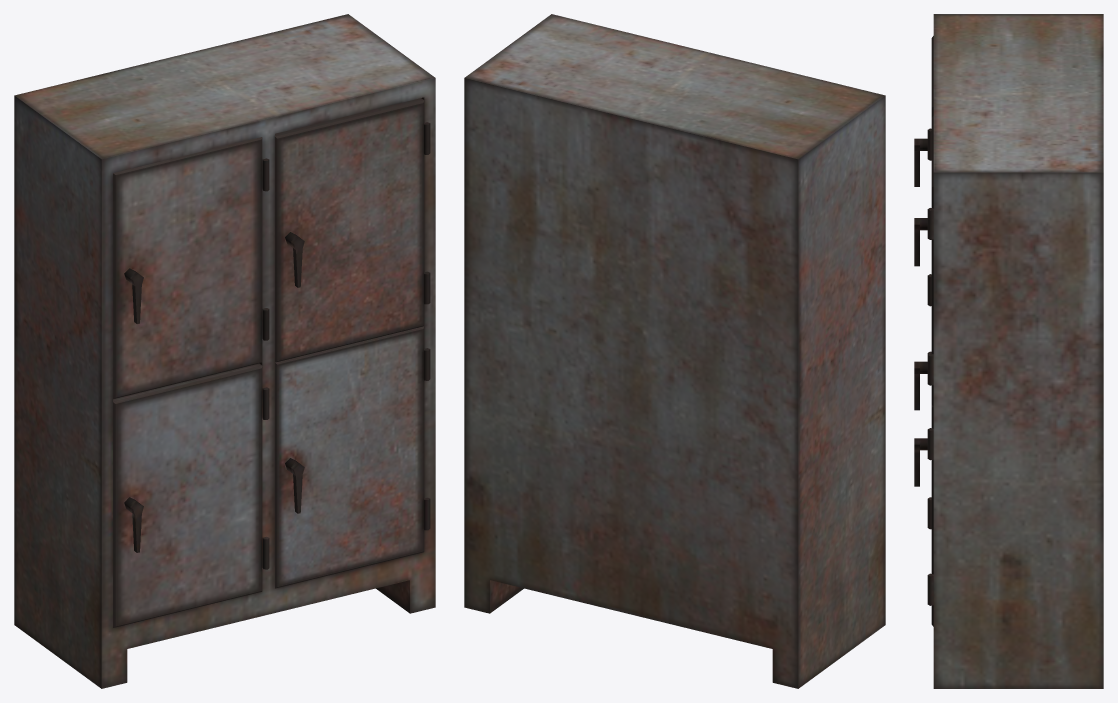
Rendered from MetalCabinet_S4Doors.FBX.
3 renders of one model, left to right at view 1: azimuth 30°, elevation 25°; view 2: azimuth 150°, elevation 25°; view 3: azimuth 270°, elevation 25°, orthographic. The views are drawn at different scales.
Parts seen in each view (by area): view 1: MetalCabinet_S4Doors, L_B_Door, R_T_Door, L_T_Door, R_B_Door; view 2: MetalCabinet_S4Doors; view 3: MetalCabinet_S4Doors, R_T_Door, R_B_Door, L_T_Door, L_B_Door.
Part boxes in pixels (bbox=[...]): MetalCabinet_S4Doors: bbox=[14, 14, 435, 688]; L_B_Door: bbox=[113, 363, 269, 627]; R_T_Door: bbox=[275, 98, 430, 362]; L_T_Door: bbox=[113, 137, 269, 398]; R_B_Door: bbox=[275, 326, 430, 588]; MetalCabinet_S4Doors: bbox=[464, 14, 885, 688]; MetalCabinet_S4Doors: bbox=[933, 14, 1103, 688]; R_T_Door: bbox=[914, 116, 933, 406]; R_B_Door: bbox=[914, 404, 933, 626]; L_T_Door: bbox=[914, 36, 933, 306]; L_B_Door: bbox=[914, 351, 931, 529].
Bounding box in the file's own units: 120 × 182 × 60.6.
